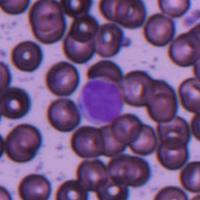L: (78, 78, 124, 126)
